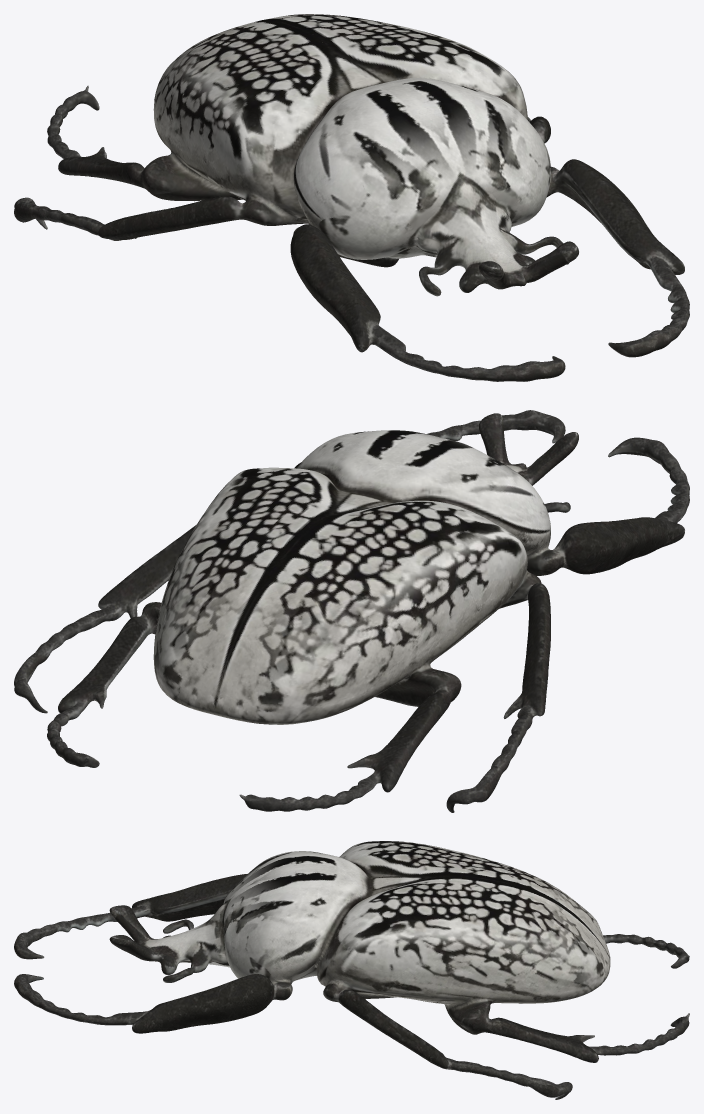
Rendered from beetle-branding.glb.
3 renders of one model, top to bottom at view 1: azimuth 30°, elevation 25°; view 2: azimuth 150°, elevation 25°; view 3: azimuth 270°, elevation 25°, orthographic. The views are drawn at different scales.
Bounding box in the file's own units: 1.19 × 0.4816 × 1.9.
Materials: 1 (1 with a texture image).
